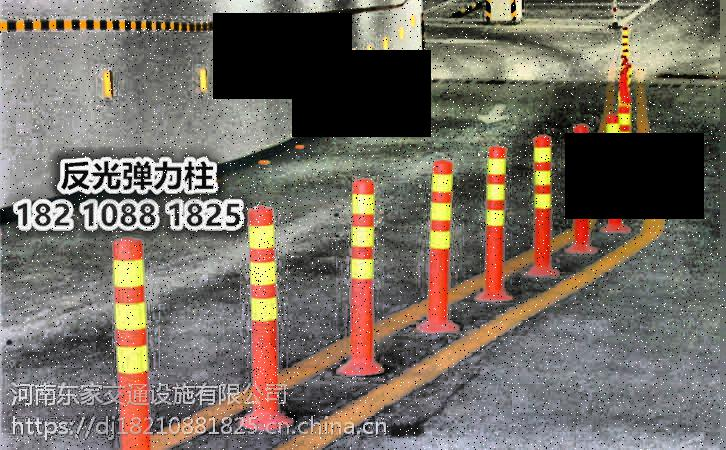bench: (241, 196, 294, 436), (337, 172, 390, 376), (414, 152, 466, 334), (525, 132, 557, 275)
